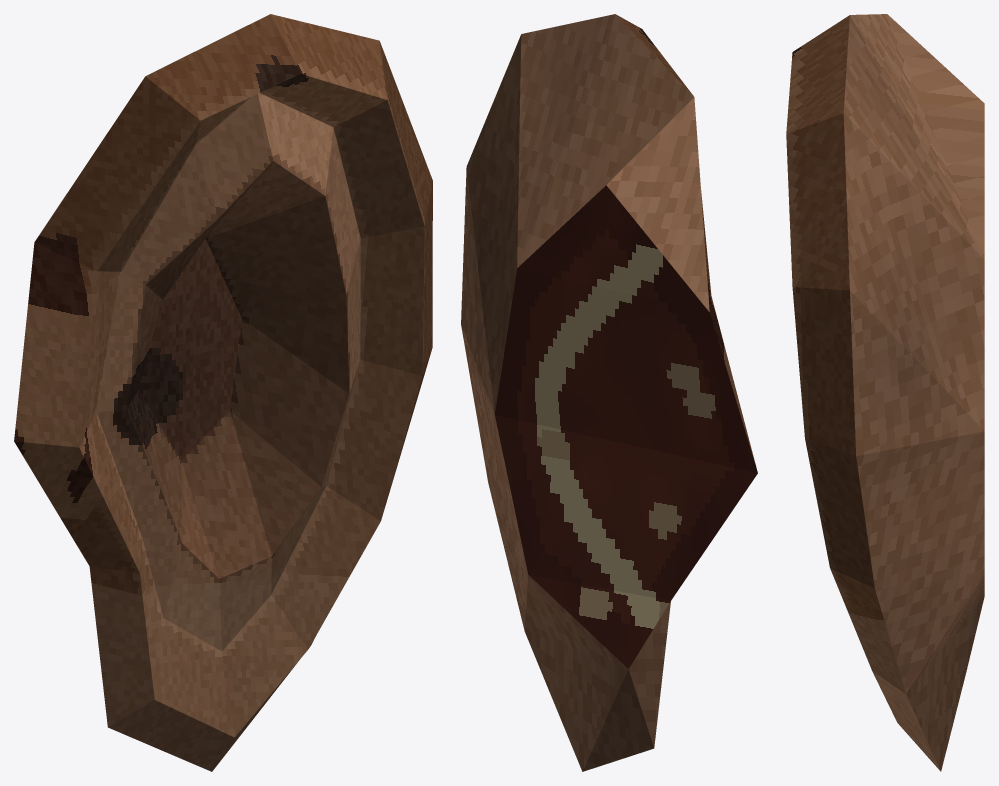
File: charm_ear.glb
The picture shows the model from 3 angles, left to right: view 1: azimuth 30°, elevation 25°; view 2: azimuth 150°, elevation 25°; view 3: azimuth 270°, elevation 25°; orthographic projection. The views are drawn at different scales.
Visible parts, largest first — view 1: charm_ear; view 2: charm_ear; view 3: charm_ear.
Boxes of the visible parts, x1,y1,x2,y2 form: charm_ear: (14, 14, 432, 771); charm_ear: (461, 14, 757, 771); charm_ear: (786, 14, 984, 771).
Bounding box in the file's own units: 0.0259 × 0.0527 × 0.0124.
1 material, 1 textured.
